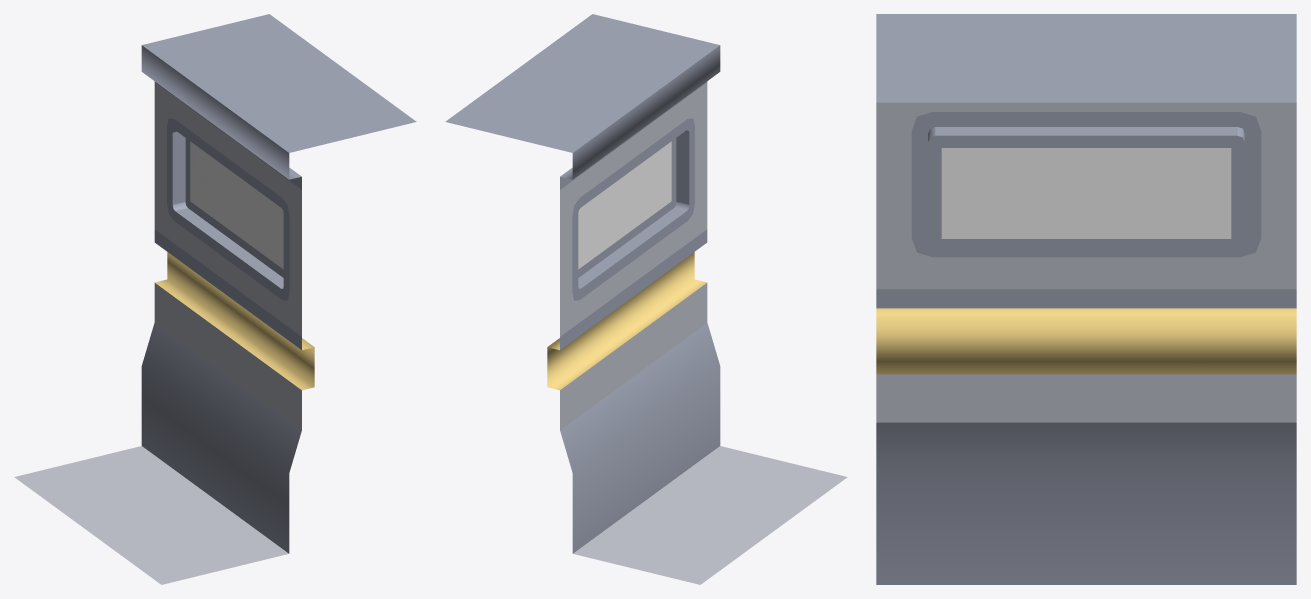
The model's file is structure-window-wide.fbx.
3 renders of one model, left to right at view 1: azimuth 30°, elevation 25°; view 2: azimuth 150°, elevation 25°; view 3: azimuth 270°, elevation 25°, orthographic. The views are drawn at different scales.
Visible parts, largest first — view 1: structure-window-wide; view 2: structure-window-wide; view 3: structure-window-wide.
Part boxes in pixels (<box>): structure-window-wide: <box>14,14,416,584</box>; structure-window-wide: <box>445,14,847,584</box>; structure-window-wide: <box>876,14,1296,584</box>.
Bounding box in the file's own units: 200 × 300 × 200.
